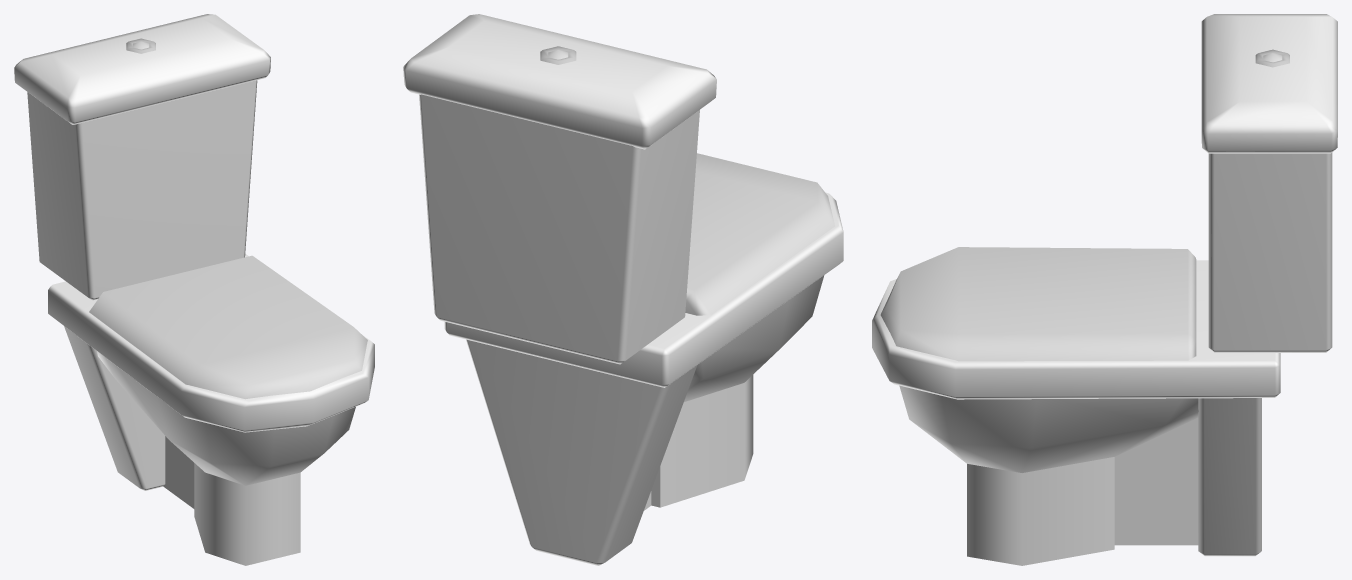
The model's file is bathroom_012.fbx.
The picture shows the model from 3 angles, left to right: view 1: azimuth 30°, elevation 25°; view 2: azimuth 150°, elevation 25°; view 3: azimuth 270°, elevation 25°; orthographic projection. The views are drawn at different scales.
Parts seen in each view (by area): view 1: bathroom_012; view 2: bathroom_012; view 3: bathroom_012.
Boxes of the visible parts, x1=… form: bathroom_012: x1=14, y1=14, x2=374, y2=565; bathroom_012: x1=403, y1=14, x2=843, y2=565; bathroom_012: x1=872, y1=14, x2=1337, y2=565.
Bounding box in the file's own units: 58.41 × 99.8 × 116.
